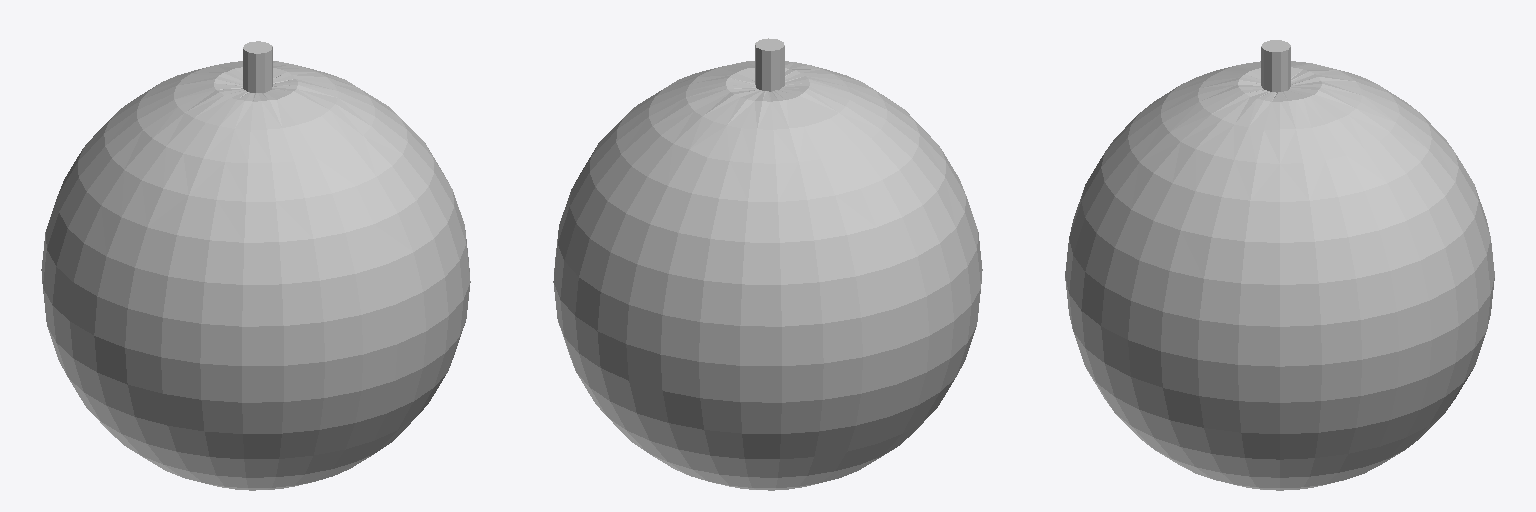
The model's file is orange.obj.
3 renders of one model, left to right at view 1: azimuth 30°, elevation 25°; view 2: azimuth 150°, elevation 25°; view 3: azimuth 270°, elevation 25°, orthographic.
Parts seen in each view (by area): view 1: Orange.004, Sphere.005; view 2: Orange.004, Sphere.005; view 3: Orange.004, Sphere.005.
Part boxes in pixels (x1,y1,x2,y2): Orange.004: (41, 61, 470, 490); Sphere.005: (243, 41, 272, 92); Orange.004: (553, 61, 982, 490); Sphere.005: (755, 38, 784, 91); Orange.004: (1065, 61, 1494, 490); Sphere.005: (1261, 40, 1290, 92).
Bounding box in the file's own units: 2 × 2.15 × 2.